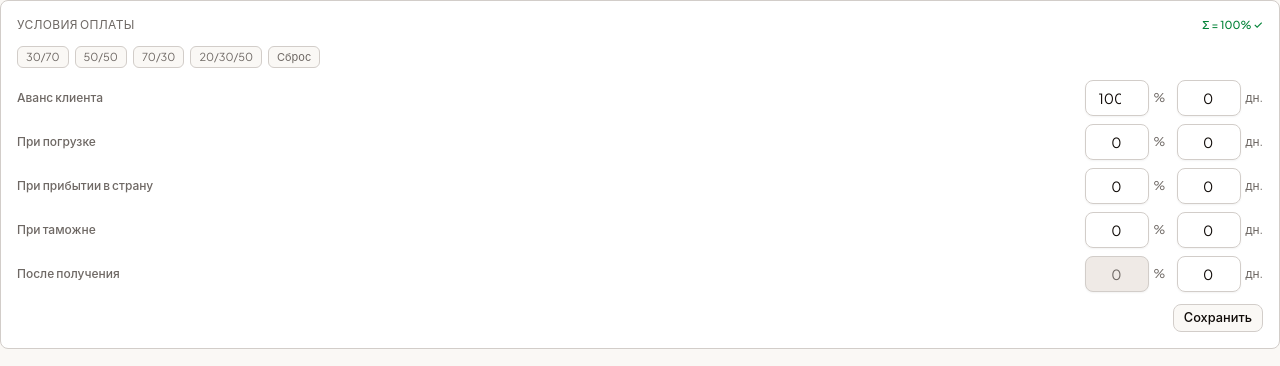
PaymentSegmentsBlock (dom) › flags 'over 100%' state when anchors 1-4 sum exceeds 100, and disables save
Replace the text in the number field named "Аванс клиента — процент" with "80" at (1117, 98), box top-left (1085, 80), bottom-right (1149, 116)
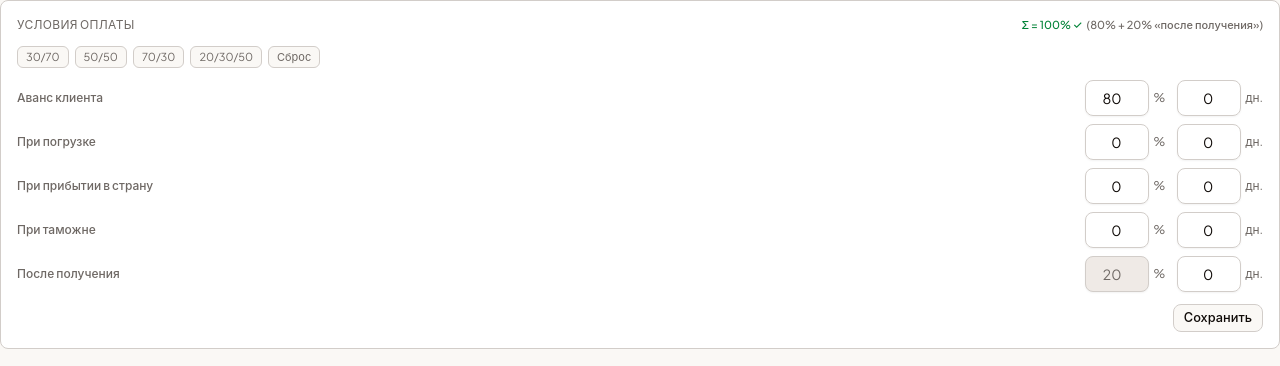
Replace the text in the number field named "При погрузке — процент" with "30" at (1117, 142), box top-left (1085, 124), bottom-right (1149, 160)
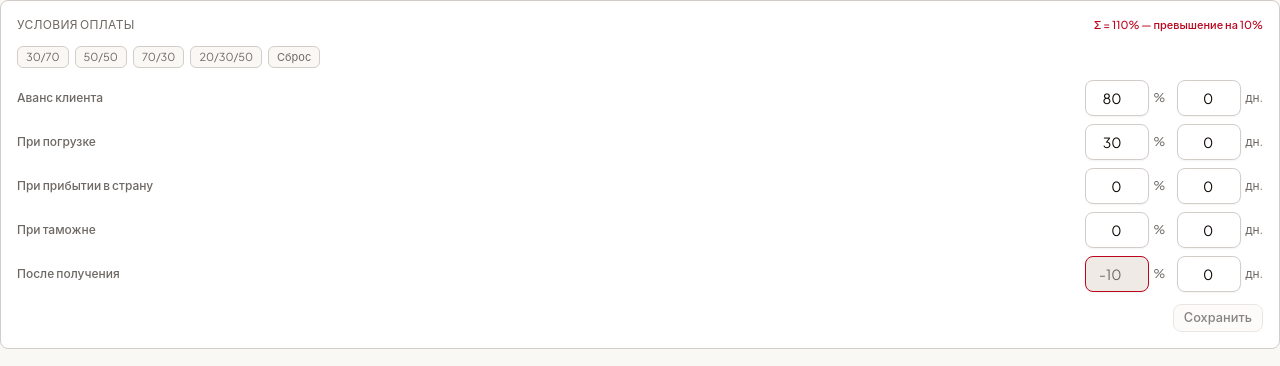
Result: the text with test id "payment-sum-indicator" shows "превышение" at top-left (1128, 18), bottom-right (1240, 31)
Result: the button "Сохранить" is disabled at top-left (1173, 304), bottom-right (1263, 332)
